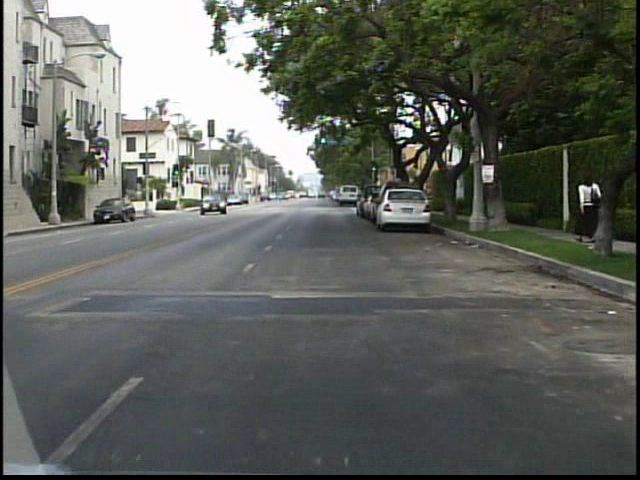person: (567, 165, 601, 245)
